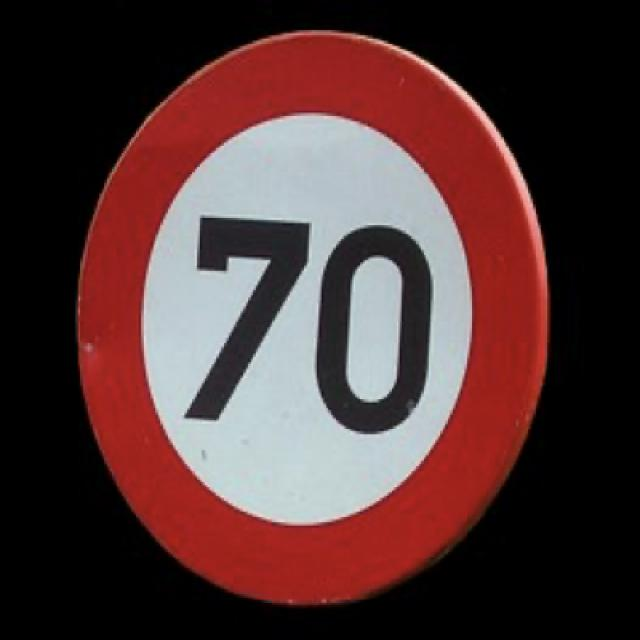speedlimit: (75, 23, 549, 605)
